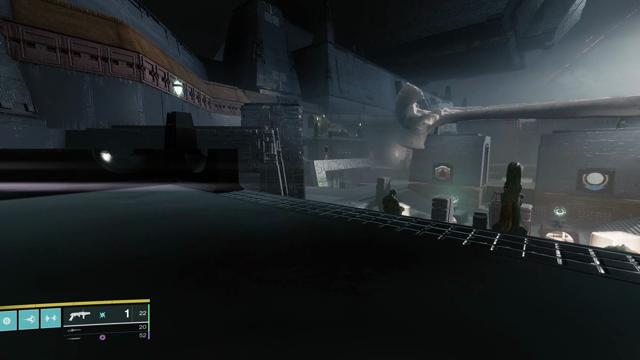pyramid: (434, 165, 451, 181)
traveler: (582, 172, 609, 191)
